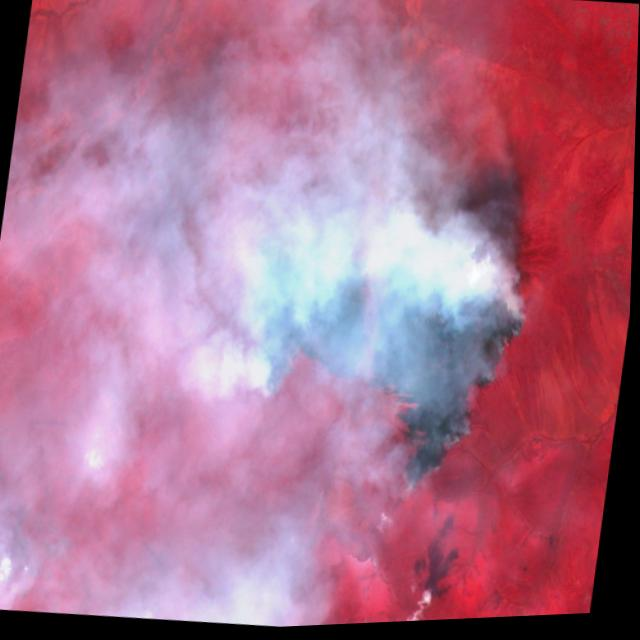fire: (221, 210, 538, 514)
